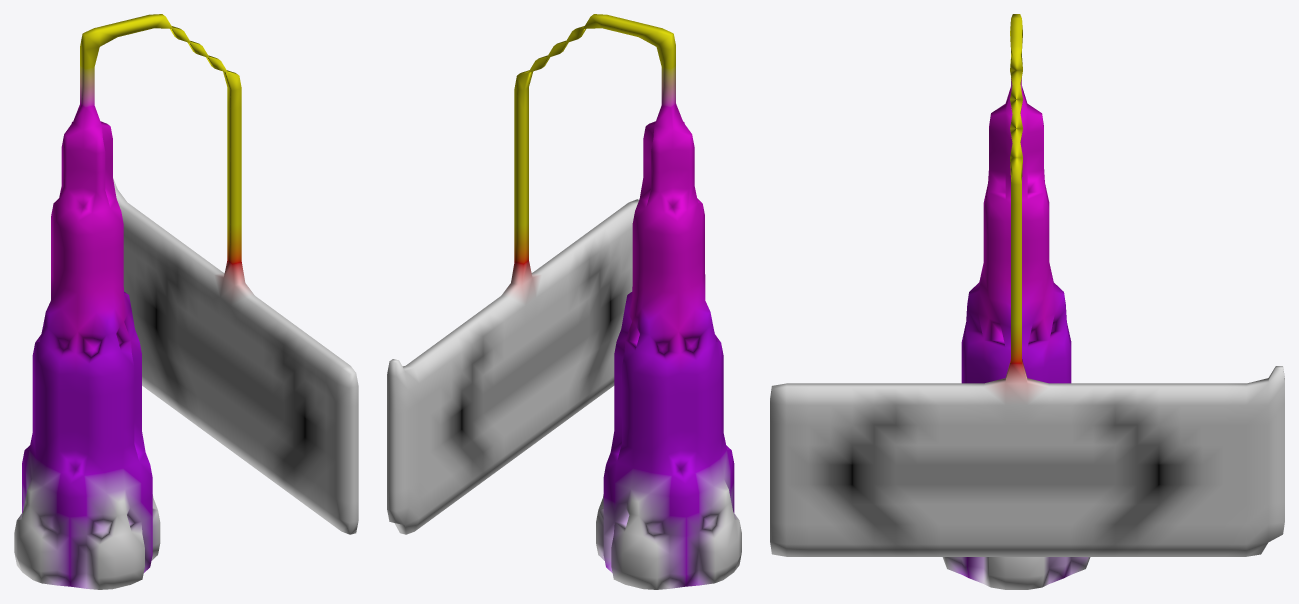
3 renders of one model, left to right at view 1: azimuth 30°, elevation 25°; view 2: azimuth 150°, elevation 25°; view 3: azimuth 270°, elevation 25°, orthographic. The views are drawn at different scales.
Bounding box in the file's own units: 0.6 × 1.38 × 1.18.
